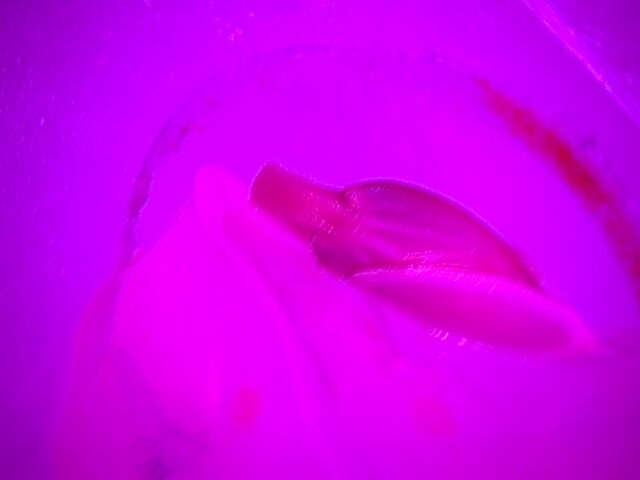sprout: (244, 153, 592, 386)
